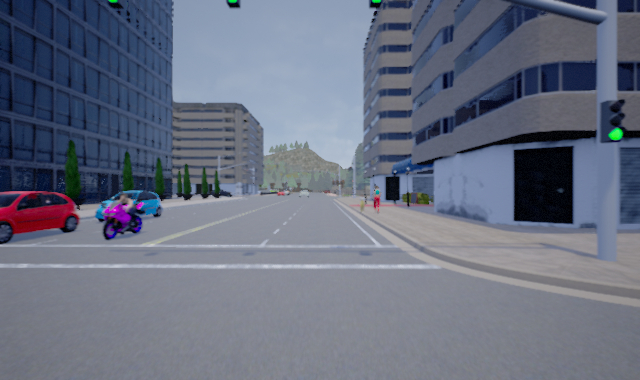motobike: (101, 194, 141, 240)
pedestrian: (370, 183, 383, 213), (357, 192, 368, 212)
traffic_light: (599, 100, 627, 143), (107, 1, 127, 10), (368, 1, 385, 8), (227, 1, 241, 7)
vehicle: (1, 189, 79, 243), (95, 190, 163, 222), (297, 189, 311, 200)
